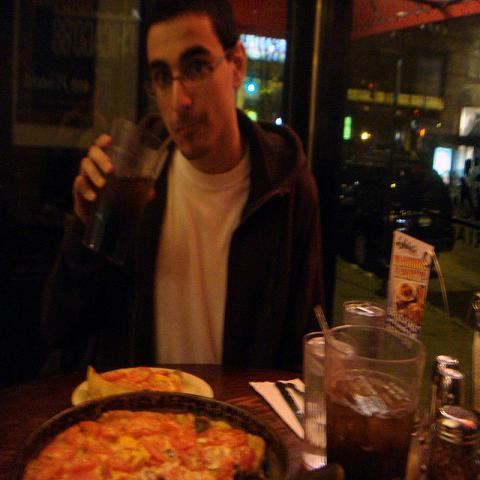car: (331, 146, 456, 283)
